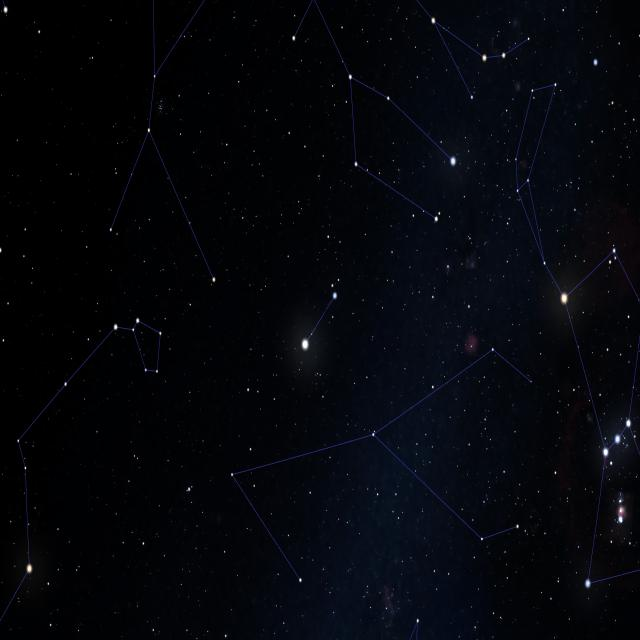Canis Minor: (301, 288, 338, 348)
